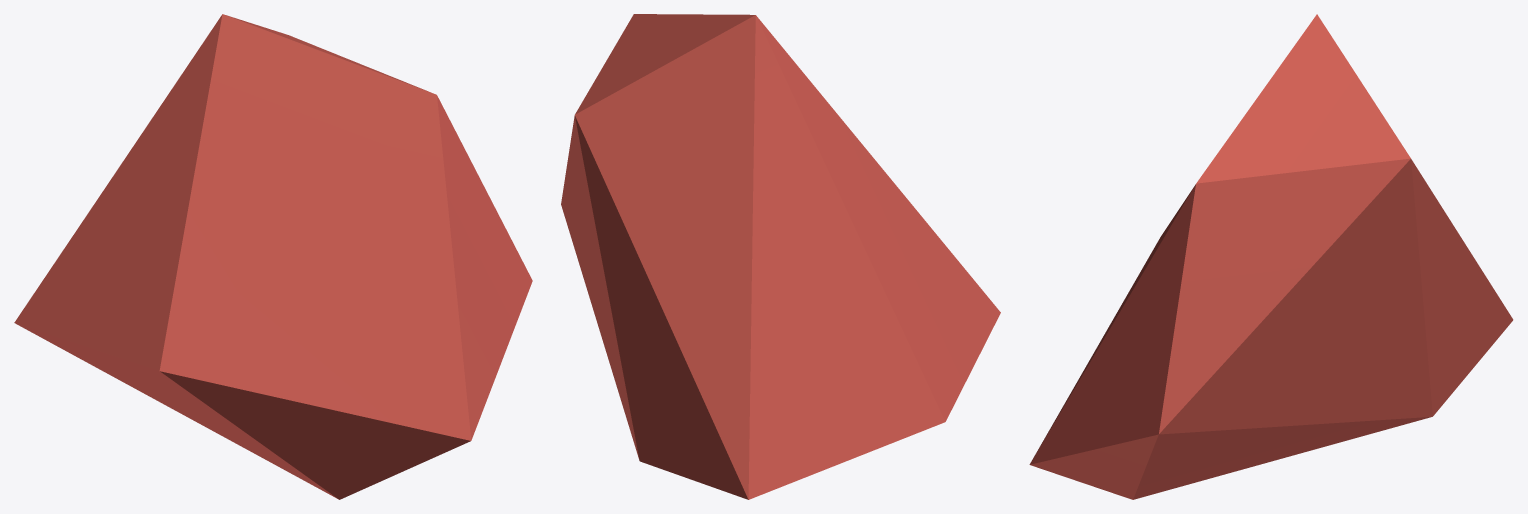
The model's file is littleredrock2.fbx.
3 renders of one model, left to right at view 1: azimuth 30°, elevation 25°; view 2: azimuth 150°, elevation 25°; view 3: azimuth 270°, elevation 25°, orthographic. The views are drawn at different scales.
Visible parts, largest first — view 1: Roundcube.008; view 2: Roundcube.008; view 3: Roundcube.008.
Part boxes in pixels (x1,y1,x2,y2): Roundcube.008: [14, 14, 532, 499]; Roundcube.008: [561, 14, 1000, 499]; Roundcube.008: [1029, 14, 1513, 499].
Size of the model in its own units: 57.92 by 56.67 by 53.03.
